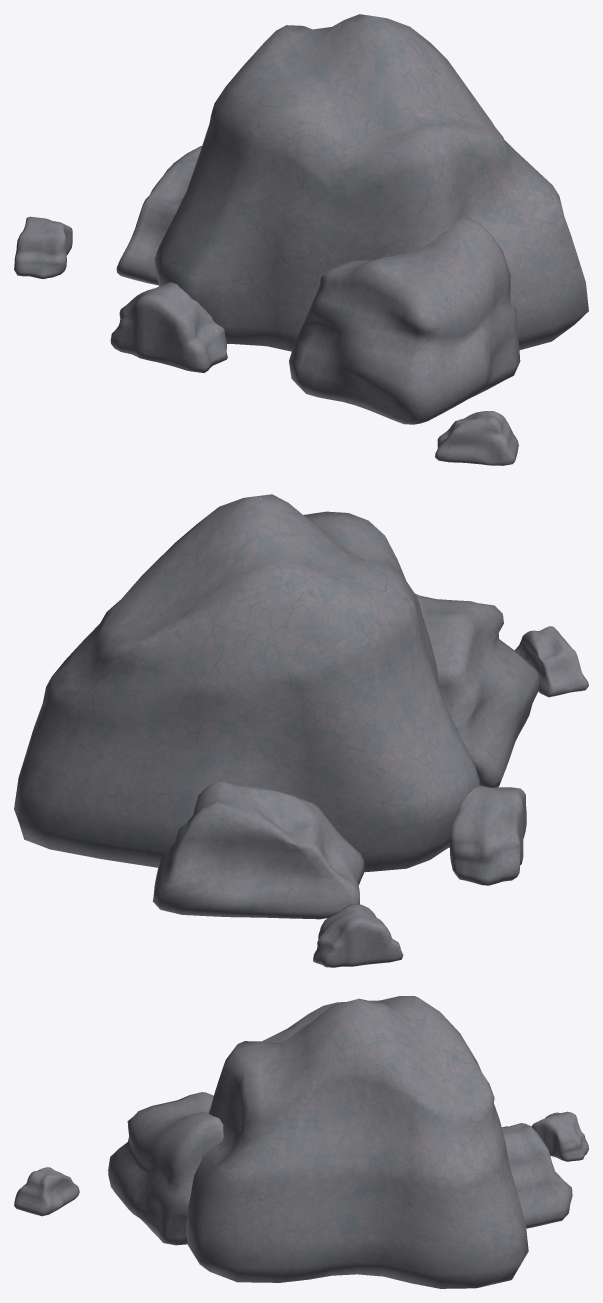
The model's file is Rock_Pile_6.fbx.
3 views of the same model, one above another, from view 1: azimuth 30°, elevation 25°; view 2: azimuth 150°, elevation 25°; view 3: azimuth 270°, elevation 25° (orthographic). The views are drawn at different scales.
Visible parts, largest first — view 1: Rock_Pile_6; view 2: Rock_Pile_6; view 3: Rock_Pile_6.
Part boxes in pixels (x1,y1,x2,y2): Rock_Pile_6: (14, 14, 588, 465); Rock_Pile_6: (14, 494, 588, 967); Rock_Pile_6: (14, 996, 588, 1288).
Bounding box in the file's own units: 149 × 102 × 220.
